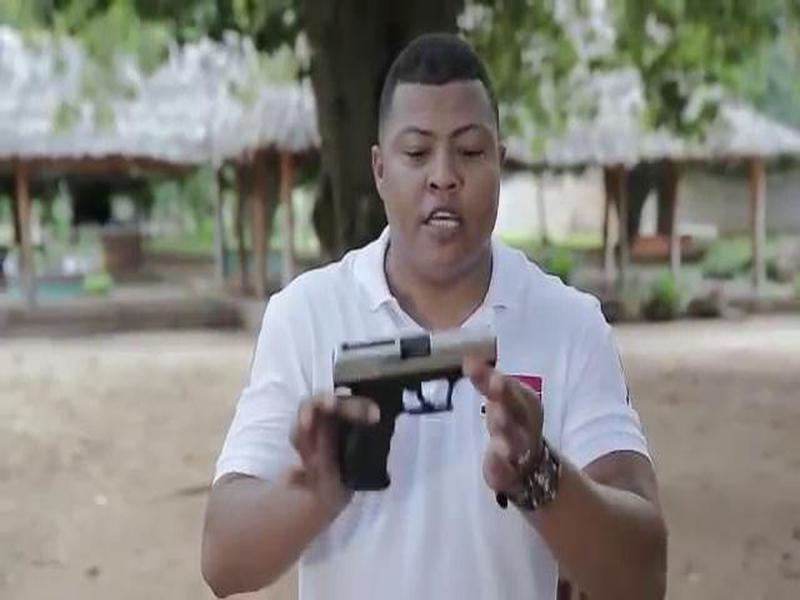Pistola: (305, 317, 507, 494)
